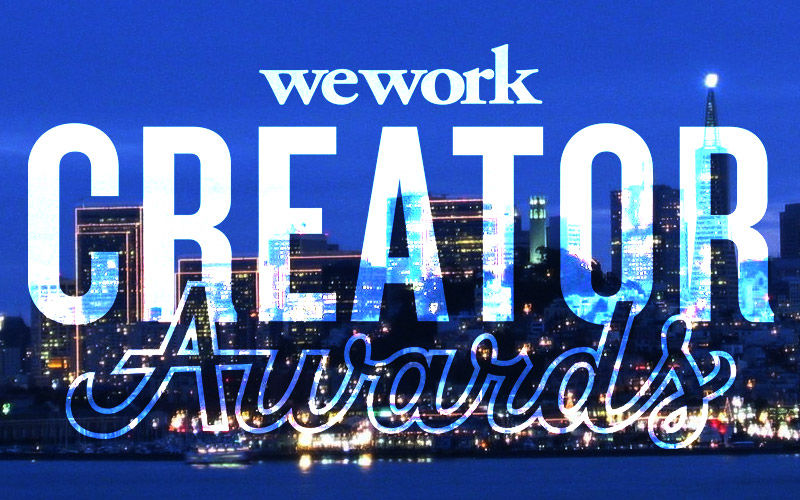wework: (253, 40, 545, 109)
